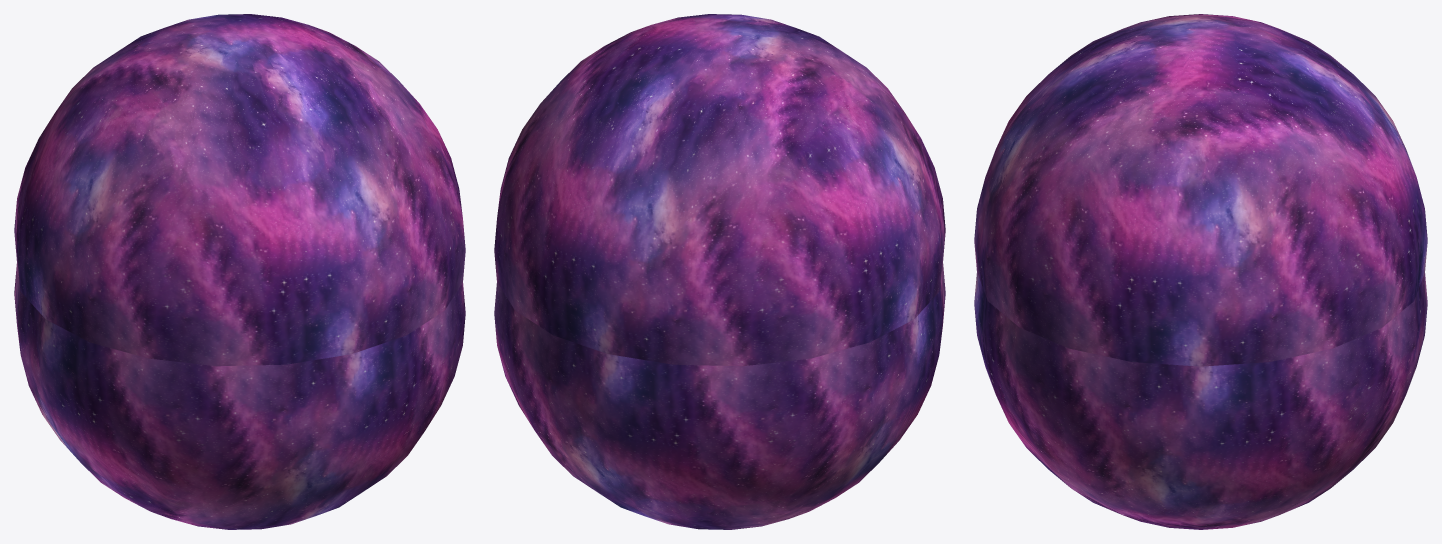
The model's file is Space.fbx.
3 views of the same model, side by side, from view 1: azimuth 30°, elevation 25°; view 2: azimuth 150°, elevation 25°; view 3: azimuth 270°, elevation 25° (orthographic).
Visible parts, largest first — view 1: AS, AS_1; view 2: AS, AS_1; view 3: AS, AS_1.
Boxes of the visible parts, x1,y1,x2,y2 form: AS: (14, 14, 465, 366); AS_1: (14, 264, 465, 529); AS: (494, 14, 945, 366); AS_1: (494, 264, 945, 529); AS: (974, 14, 1427, 366); AS_1: (974, 273, 1427, 529).
Bounding box in the file's own units: 2543 × 2931 × 2543.
Materials: 1 (1 with a texture image).
